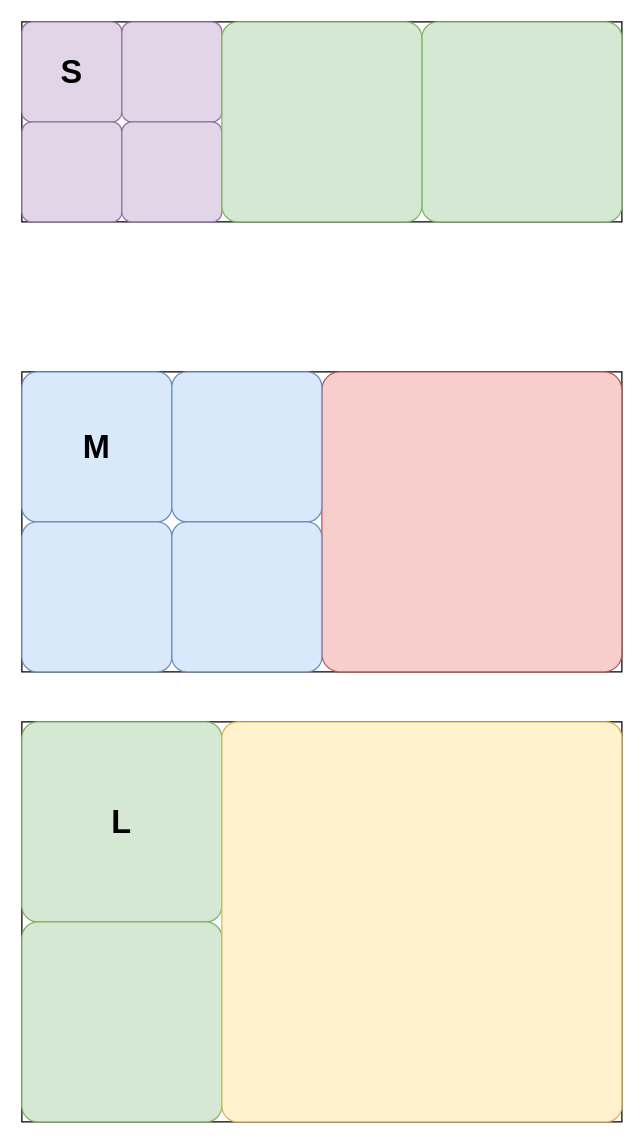
Image size: 644x1144. Some labels were removed from this diagram. The centre of each missing label's shape, as x and y in pixels:
XL: point (471, 521)
XXL: point (421, 921)
